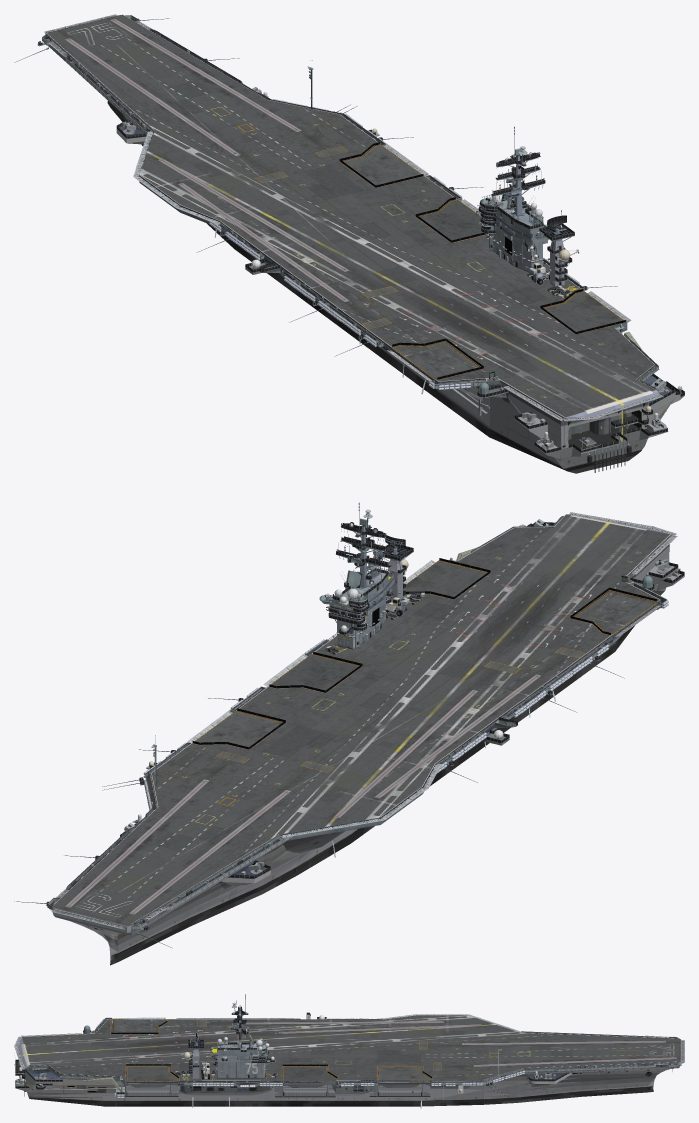
Rendered from truman-mobile.glb.
3 views of the same model, one above another, from view 1: azimuth 30°, elevation 25°; view 2: azimuth 150°, elevation 25°; view 3: azimuth 270°, elevation 25° (orthographic). The views are drawn at different scales.
Visible parts, largest first — view 1: Flightdeck, hull_3, island, deck_c, deck_n, cat-deck-1, hull_2, deck_t, hull_1, JBD-1; view 2: Flightdeck, hull_1, deck_c, island, deck_n, cat-deck-1, hull_2, deck_t, hull_3, JBD-1, Howdah-warning-stripes; view 3: Flightdeck, hull_2, hull_1, deck_c, island, hull_3, deck_n, cat-deck-1, deck_t, Howdah-warning-stripes, Elevator, JBD-1.
Boxes of the visible parts, left/top/right/bottom form: Flightdeck: left=46, top=15, right=655, bottom=417; hull_3: left=263, top=92, right=684, bottom=473; island: left=251, top=126, right=651, bottom=411; deck_c: left=133, top=131, right=631, bottom=389; deck_n: left=14, top=14, right=617, bottom=356; cat-deck-1: left=65, top=18, right=349, bottom=301; hull_2: left=207, top=129, right=684, bottom=437; deck_t: left=430, top=236, right=663, bottom=425; hull_1: left=48, top=45, right=666, bottom=421; JBD-1: left=256, top=146, right=396, bottom=328; Flightdeck: left=53, top=514, right=671, bottom=924; hull_1: left=53, top=519, right=669, bottom=965; deck_c: left=187, top=560, right=661, bottom=837; island: left=149, top=502, right=652, bottom=767; deck_n: left=14, top=656, right=624, bottom=948; cat-deck-1: left=65, top=674, right=541, bottom=914; hull_2: left=146, top=639, right=615, bottom=875; deck_t: left=326, top=512, right=677, bottom=654; hull_3: left=132, top=522, right=684, bottom=823; JBD-1: left=217, top=647, right=583, bottom=772; Howdah-warning-stripes: left=195, top=560, right=656, bottom=805; Flightdeck: left=22, top=1015, right=679, bottom=1084; hull_2: left=36, top=1012, right=483, bottom=1108; hull_1: left=38, top=1017, right=679, bottom=1104; deck_c: left=97, top=1012, right=521, bottom=1087; island: left=19, top=994, right=462, bottom=1092; hull_3: left=14, top=1030, right=539, bottom=1106; deck_n: left=187, top=1015, right=684, bottom=1099; cat-deck-1: left=245, top=1021, right=676, bottom=1066; deck_t: left=14, top=1018, right=277, bottom=1081; Howdah-warning-stripes: left=112, top=1019, right=499, bottom=1081; Elevator: left=157, top=1028, right=430, bottom=1084; JBD-1: left=198, top=1020, right=441, bottom=1070.
Bounding box in the file's own units: 102 × 68.21 × 336.
Materials: 22 (19 with a texture image).
